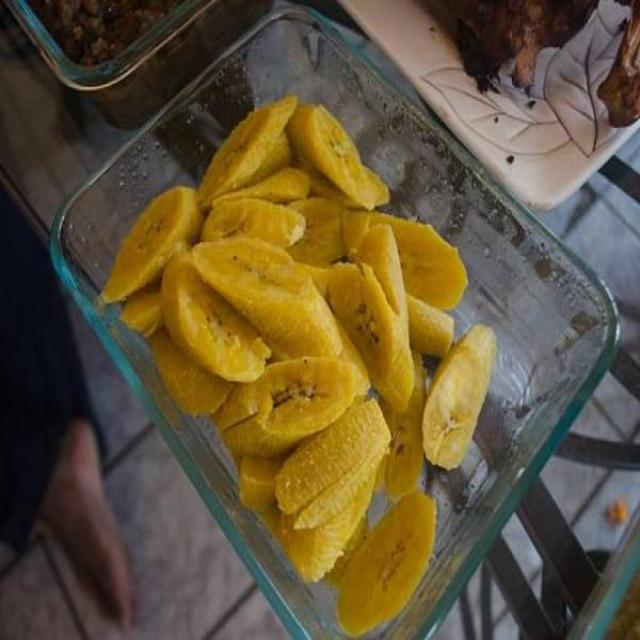platano: (98, 100, 524, 626)
